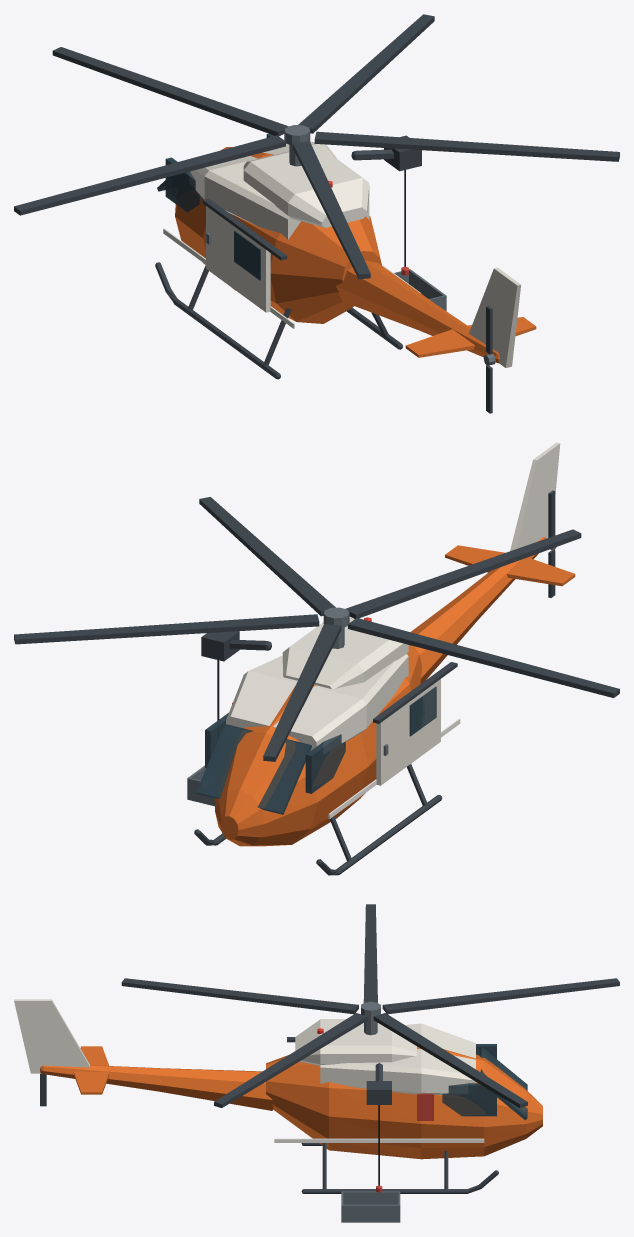
The model's file is AIR_04.obj.
The picture shows the model from 3 angles, top to bottom: view 1: azimuth 30°, elevation 25°; view 2: azimuth 150°, elevation 25°; view 3: azimuth 270°, elevation 25°; orthographic projection. The views are drawn at different scales.
Visible parts, largest first — view 1: main_rotor, fuselage, cabin_cowl, tail_boom, sliding_door, belly_white, tail_fin, skids, stabilizer, cockpit_glass, sliding_door_rail, tail_rotor (+3 smaller); view 2: main_rotor, fuselage, belly_white, cockpit_glass, cabin_cowl, sliding_door, tail_boom, tail_fin, stabilizer, skids, winch_housing, sliding_door_rail (+1 smaller); view 3: fuselage, main_rotor, belly_white, tail_boom, tail_fin, cabin_cowl, cockpit_glass, rescue_basket, markings, stabilizer, skids, winch_housing.
Boxes of the visible parts, <box> form: main_rotor: <box>14,14,619,279</box>; fuselage: <box>175,147,381,323</box>; cabin_cowl: <box>243,145,369,227</box>; tail_boom: <box>336,260,499,363</box>; sliding_door: <box>206,206,270,312</box>; belly_white: <box>190,139,369,239</box>; tail_fin: <box>469,267,520,367</box>; skids: <box>155,262,402,379</box>; stabilizer: <box>405,317,536,357</box>; cockpit_glass: <box>157,134,274,212</box>; sliding_door_rail: <box>202,198,287,260</box>; tail_rotor: <box>483,306,495,413</box>; main_rotor: <box>14,497,619,761</box>; fuselage: <box>214,645,421,846</box>; belly_white: <box>226,654,408,750</box>; cockpit_glass: <box>196,712,345,814</box>; cabin_cowl: <box>282,617,408,688</box>; sliding_door: <box>376,679,440,785</box>; tail_boom: <box>410,537,545,683</box>; tail_fin: <box>510,442,560,550</box>; stabilizer: <box>445,545,575,586</box>; skids: <box>194,795,442,875</box>; winch_housing: <box>201,631,239,661</box>; sliding_door_rail: <box>373,662,457,723</box>; fuselage: <box>266,1046,542,1159</box>; main_rotor: <box>121,904,619,1107</box>; belly_white: <box>320,1023,475,1094</box>; tail_boom: <box>40,1065,273,1110</box>; tail_fin: <box>14,999,90,1073</box>; cabin_cowl: <box>295,1019,416,1065</box>; cockpit_glass: <box>442,1044,527,1120</box>; rescue_basket: <box>341,1191,400,1222</box>; markings: <box>274,1093,484,1142</box>; stabilizer: <box>73,1046,109,1094</box>; skids: <box>301,1143,498,1193</box>; winch_housing: <box>366,1081,391,1104</box>.
Size of the model in its own units: 11.29 by 4.5 by 14.43.
